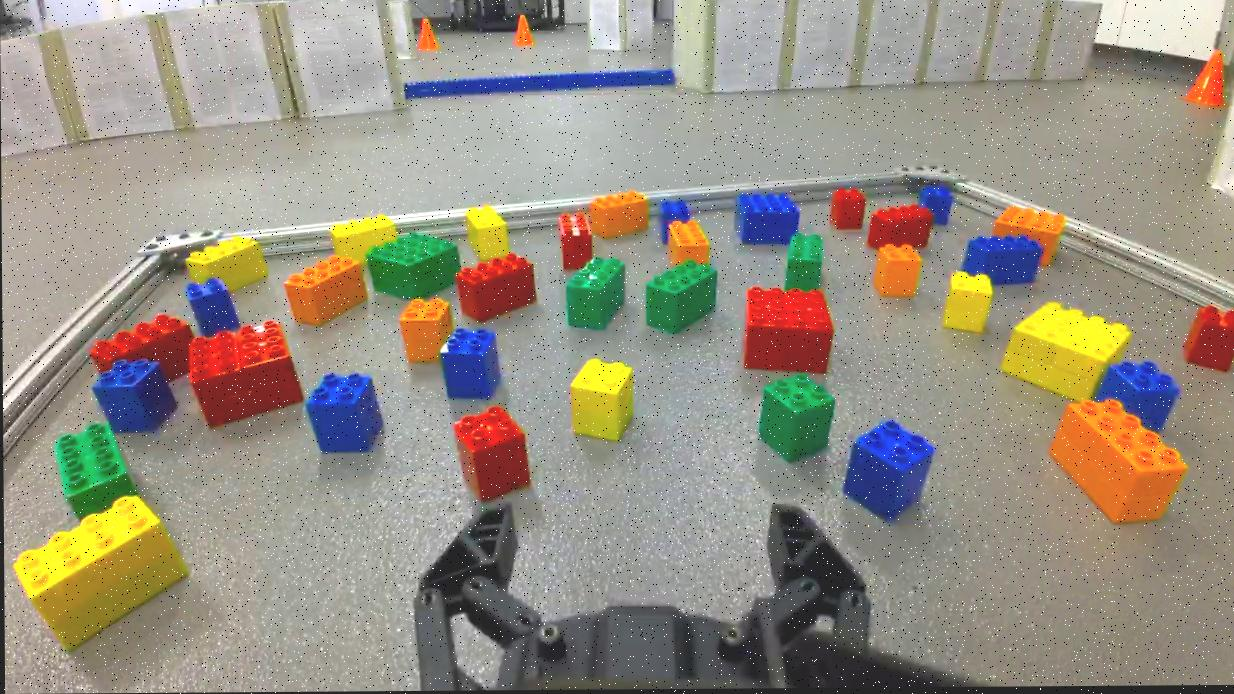2x2lego: (839, 420, 934, 523), (451, 404, 530, 503), (759, 372, 835, 465), (304, 372, 386, 454), (92, 358, 179, 430), (1096, 363, 1180, 432), (567, 360, 636, 442), (1179, 304, 1234, 374), (397, 298, 453, 362), (185, 276, 241, 337), (942, 271, 993, 337), (871, 246, 922, 300), (828, 188, 866, 233), (917, 184, 954, 227)
2x4lego: (12, 493, 189, 651), (1046, 399, 1188, 529), (52, 420, 136, 521), (284, 254, 368, 325), (455, 252, 538, 322), (646, 259, 718, 336), (88, 312, 193, 362), (564, 255, 627, 330), (963, 234, 1043, 287), (186, 234, 269, 282), (865, 201, 932, 247), (588, 191, 649, 241), (463, 205, 509, 260), (556, 213, 596, 272), (784, 232, 824, 290), (664, 221, 713, 265), (329, 215, 394, 244), (658, 199, 689, 224)
4x4lego: (998, 300, 1132, 402), (188, 317, 302, 430), (741, 286, 835, 376), (367, 230, 462, 301), (731, 191, 800, 246), (993, 205, 1065, 236)
